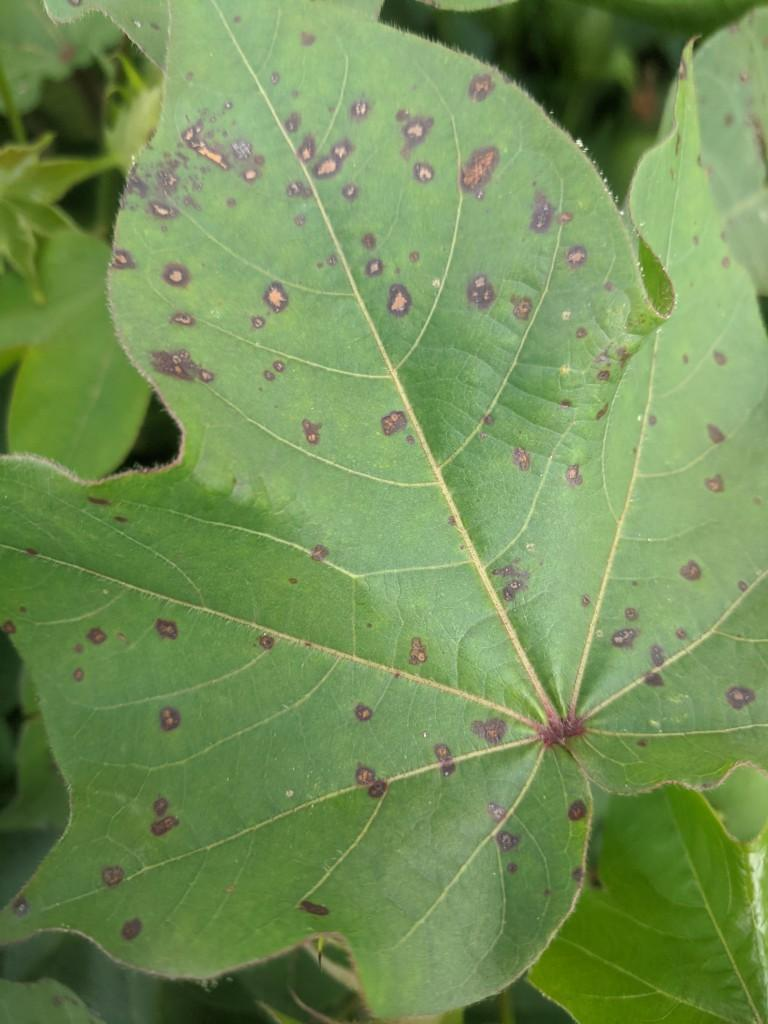black-spot: (194, 68, 487, 408)
